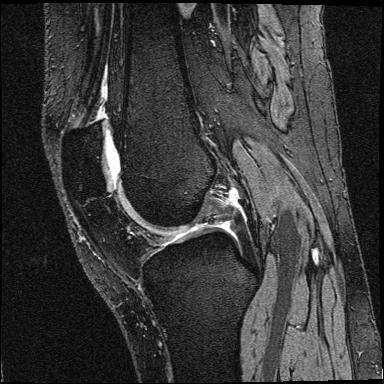SagKneeJointArea: (59, 118, 264, 290)
